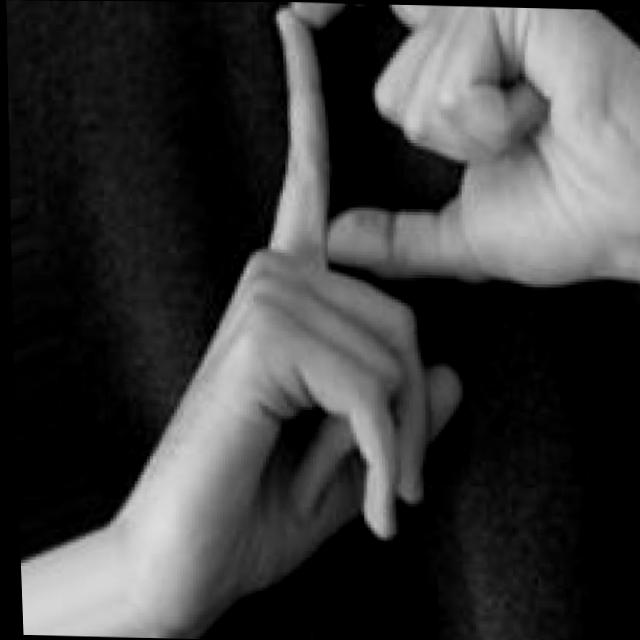D: (113, 1, 640, 640)
